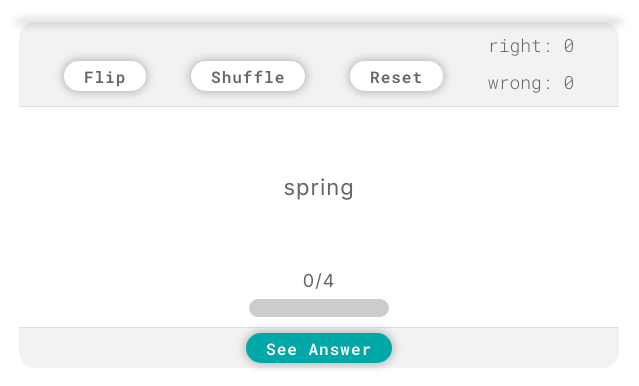
it: learn › veryfying answer › should show back of a card
Click the button "See Answer": point(319, 348) [246, 333, 392, 363]
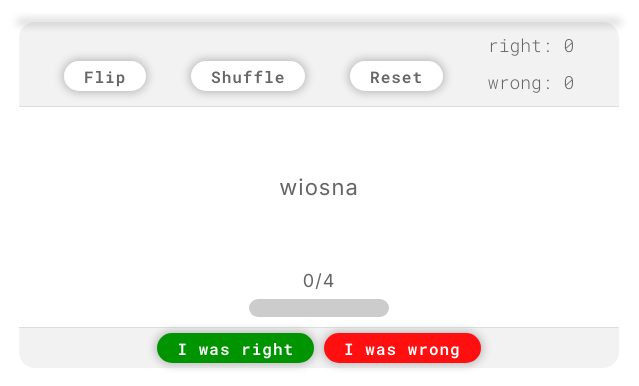
Expected: the text "wiosna" is shown, [279, 170, 359, 204]
